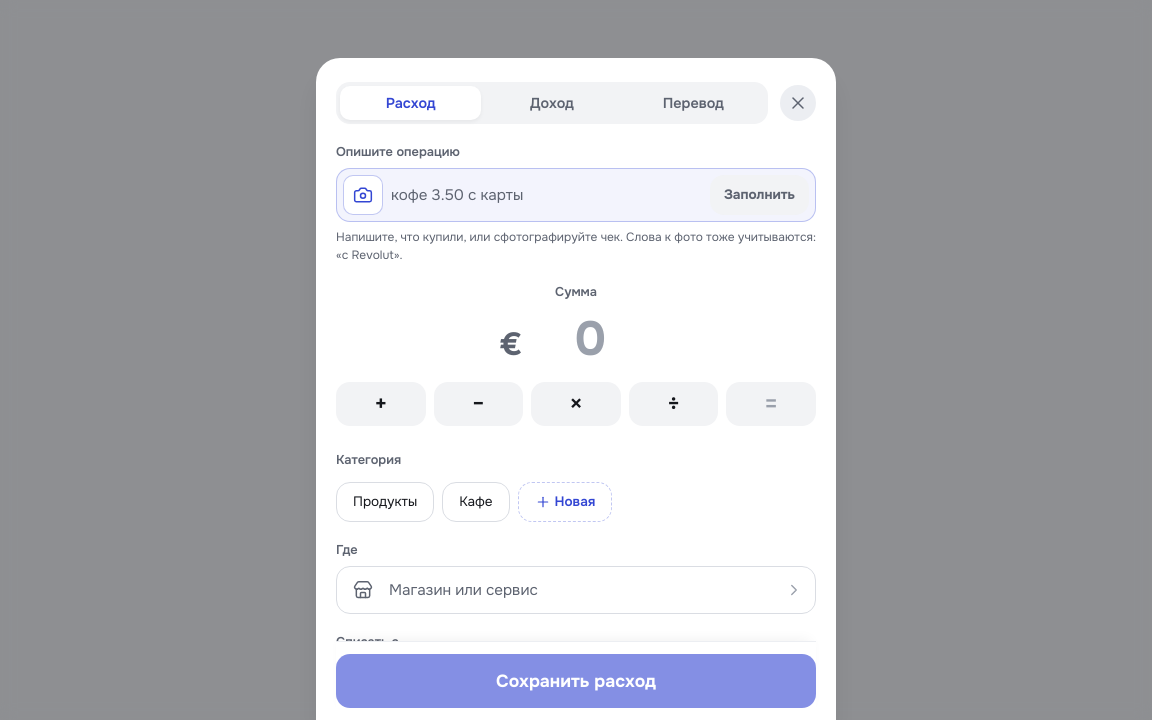
it: QuickEntry in the transaction form › dims the form and locks the phrase while the draft is loading
The width and height of the screenshot is (1152, 720).
Step 1. Type "кофе 3.50" into the field labelled "Опишите операцию" → (546, 195), box [391,185,702,205]
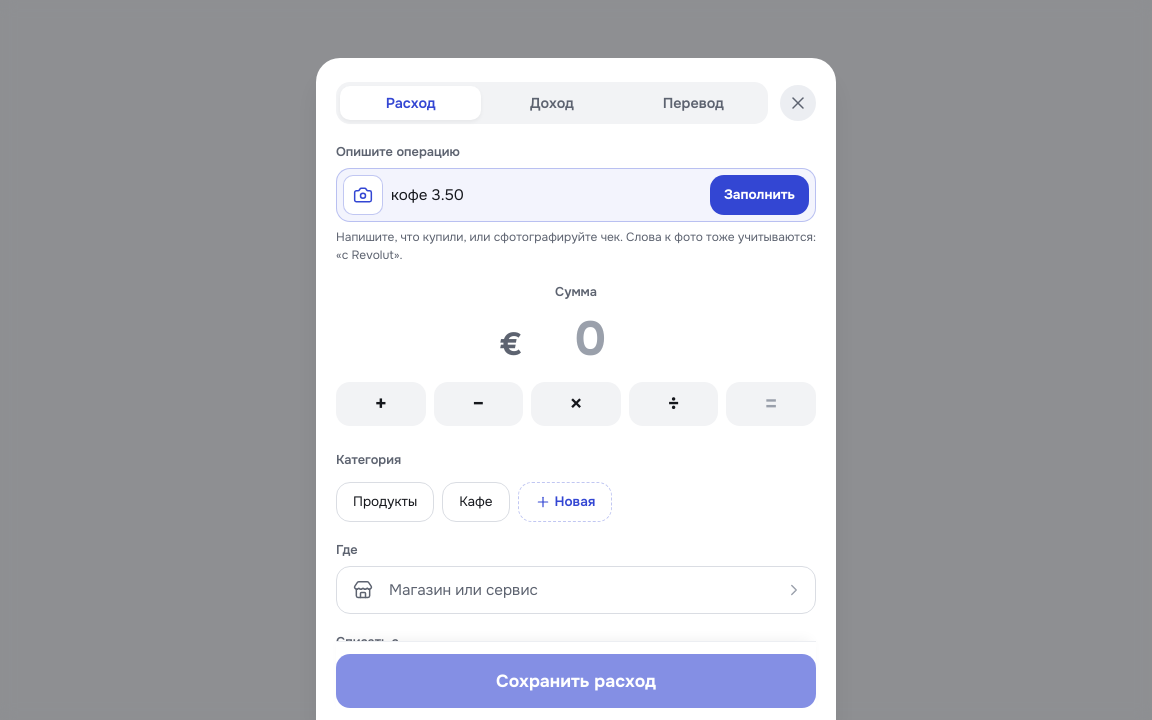
Step 2. Click the button "Заполнить" → (759, 195), box [710,175,809,215]
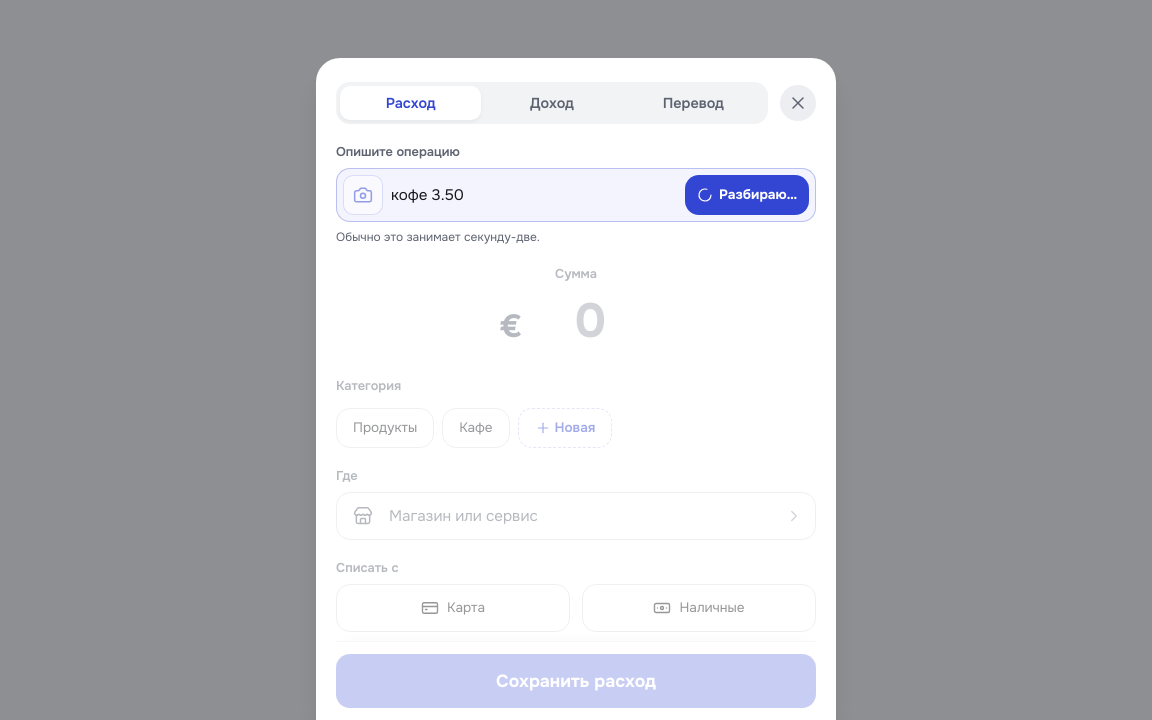
Check: the text "Обычно это занимает секунду-две." is shown, box [336,229,540,245]
Step 3. Click the button "Разбираю…" → (747, 195), box [685,175,809,215]
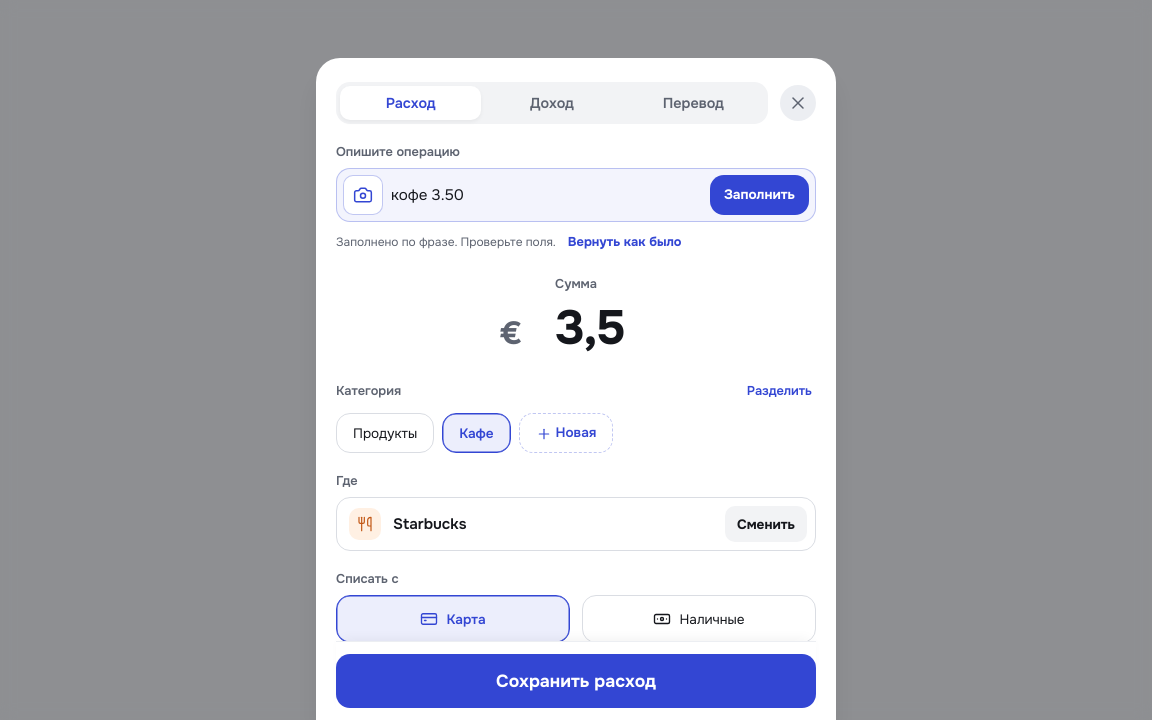
Check: the text "Заполнено по фразе. Проверьте поля." is shown, box [336,233,556,251]
